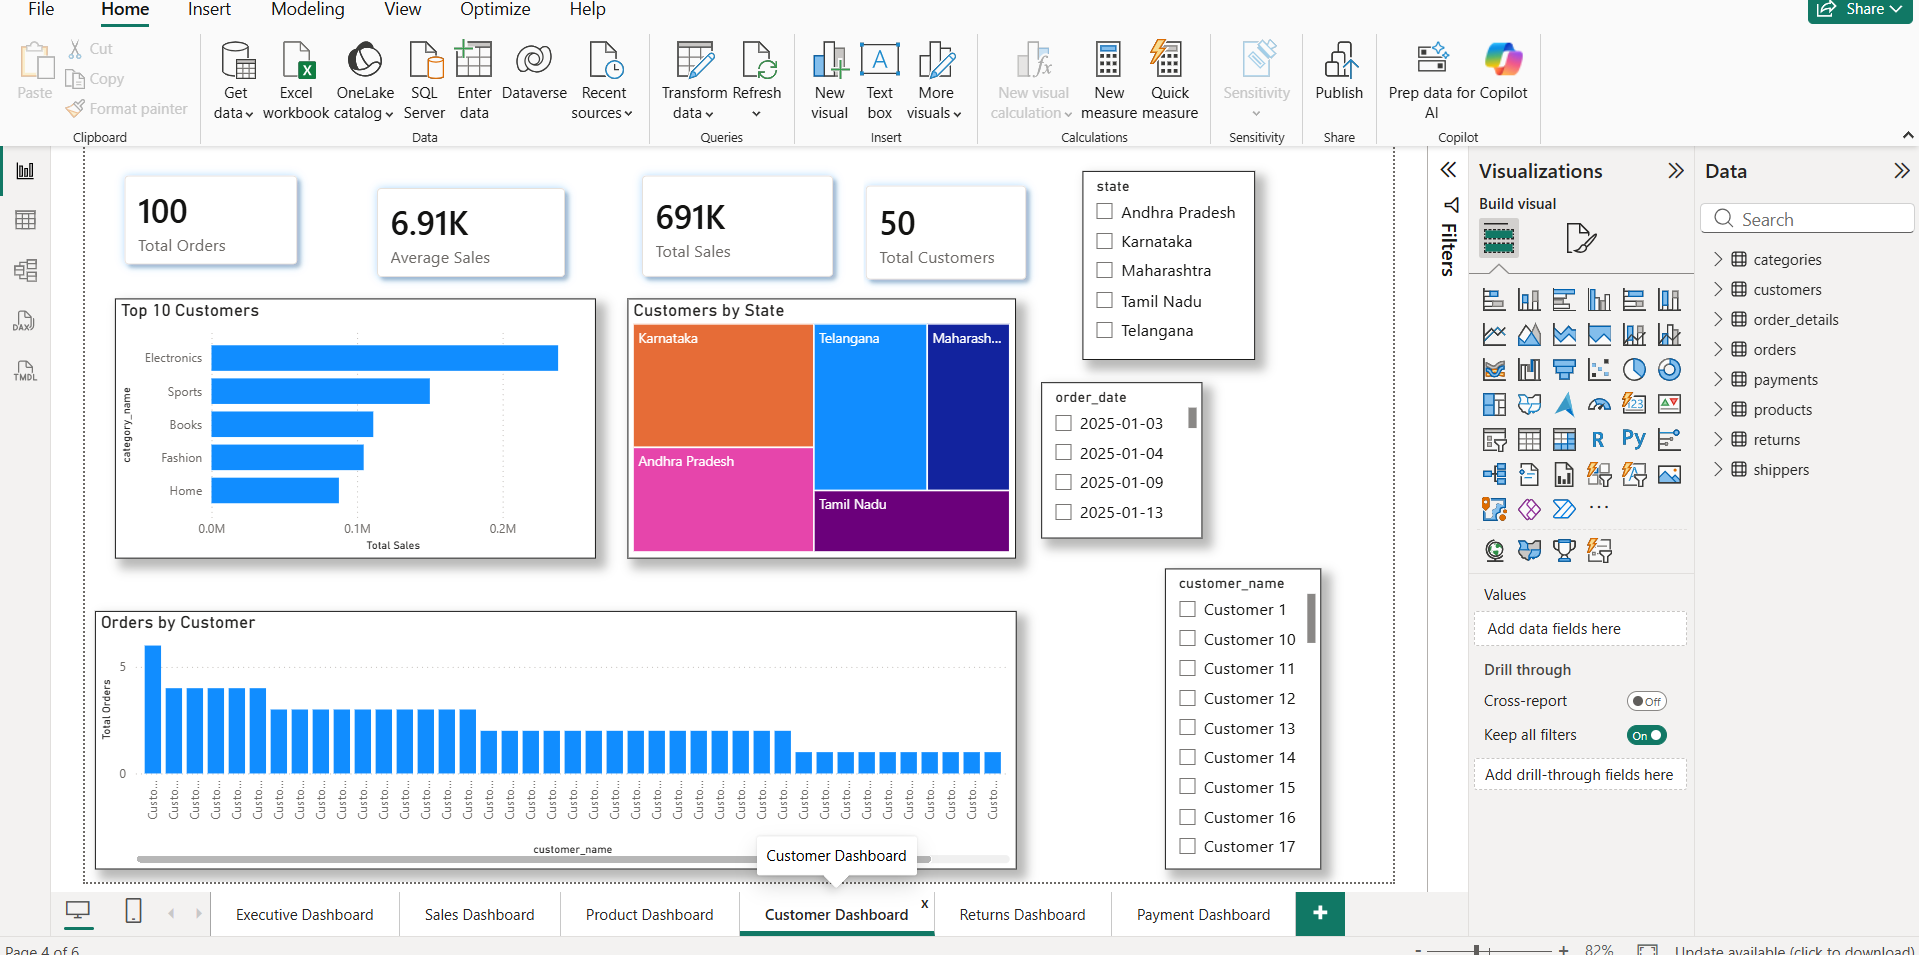

The page's visual inventory and layout, read from the dashboard file:
{"tool":"powerbi","page":{"name":"Customer Dashboard","canvas":[1280,720],"ordinal":3},"visuals":[{"type":"cardVisual","fields":{"Data":["categories.Total Orders"]},"box":[9.6,0,227.8,145.5],"z":0},{"type":"cardVisual","fields":{"Data":["categories.Average Sales"]},"box":[256.6,12.3,242.9,145.5],"z":1000},{"type":"cardVisual","fields":{"Data":["categories.Total Customers"]},"box":[735.5,9.6,215.4,150.9],"z":2000},{"type":"cardVisual","fields":{"Data":["categories.Total Sales"]},"box":[516,0,245.6,157.8],"z":3000},{"type":"clusteredBarChart","title":"Top 10 Customers","fields":{"Category":["categories.category_name"],"Y":["categories.Total Sales"]},"box":[29.3,149.2,470.8,254.3],"z":4000},{"type":"clusteredColumnChart","title":"Orders by Customer","fields":{"Category":["customers.customer_name"],"Y":["categories.Total Orders"]},"box":[9.8,454.9,901.2,253.1],"z":5000},{"type":"treemap","title":"Customers by State","fields":{"Group":["customers.state"],"Values":["categories.Total Customers"]},"box":[530.7,149.2,380.3,254.3],"z":6000},{"type":"slicer","fields":{"Values":["customers.customer_name"]},"box":[1056.5,413.3,152.9,294.7],"z":7000},{"type":"slicer","fields":{"Values":["customers.state"]},"box":[975.8,24.5,168.8,184.6],"z":8000},{"type":"slicer","fields":{"Values":["orders.order_date"]},"box":[935.5,231.1,157.7,152.9],"z":9000}]}

Visuals, with their boxes on the page's 1280x720 design canvas (x1, y1, x2, y2). These are canvas units, not pixel positions in the 1919x955 screenshot, which may show the page scaled, cropped or inside an application window:
cardVisual - categories.Total Orders: {"left": 10, "top": 0, "right": 237, "bottom": 146}
cardVisual - categories.Average Sales: {"left": 257, "top": 12, "right": 500, "bottom": 158}
cardVisual - categories.Total Customers: {"left": 736, "top": 10, "right": 951, "bottom": 160}
cardVisual - categories.Total Sales: {"left": 516, "top": 0, "right": 762, "bottom": 158}
"Top 10 Customers" clusteredBarChart: {"left": 29, "top": 149, "right": 500, "bottom": 404}
"Orders by Customer" clusteredColumnChart: {"left": 10, "top": 455, "right": 911, "bottom": 708}
"Customers by State" treemap: {"left": 531, "top": 149, "right": 911, "bottom": 404}
slicer - customers.customer_name: {"left": 1056, "top": 413, "right": 1209, "bottom": 708}
slicer - customers.state: {"left": 976, "top": 24, "right": 1145, "bottom": 209}
slicer - orders.order_date: {"left": 936, "top": 231, "right": 1093, "bottom": 384}
